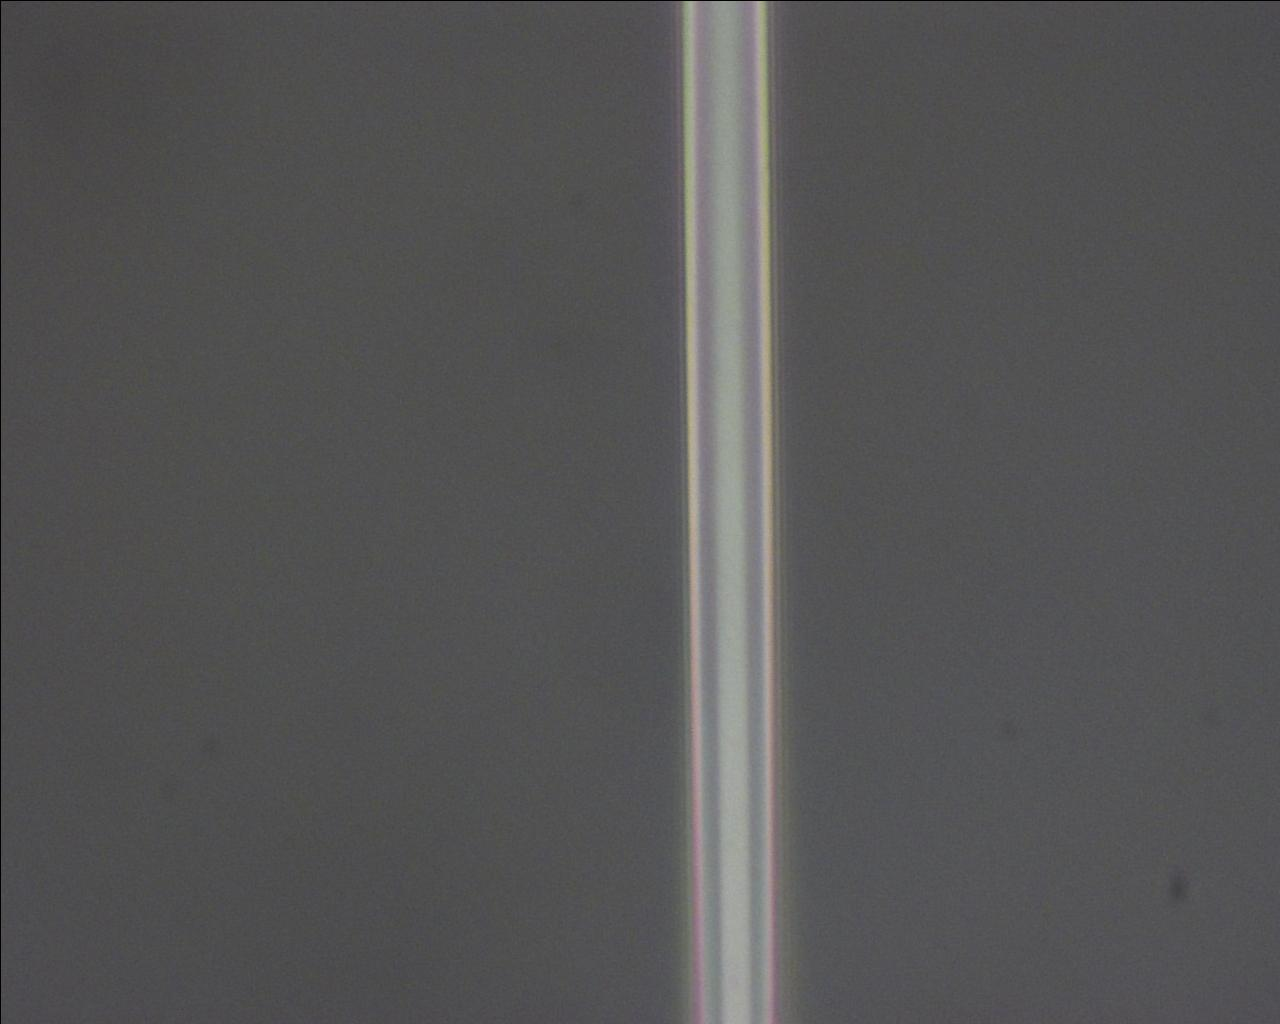fiber: (678, 0, 779, 1024)
